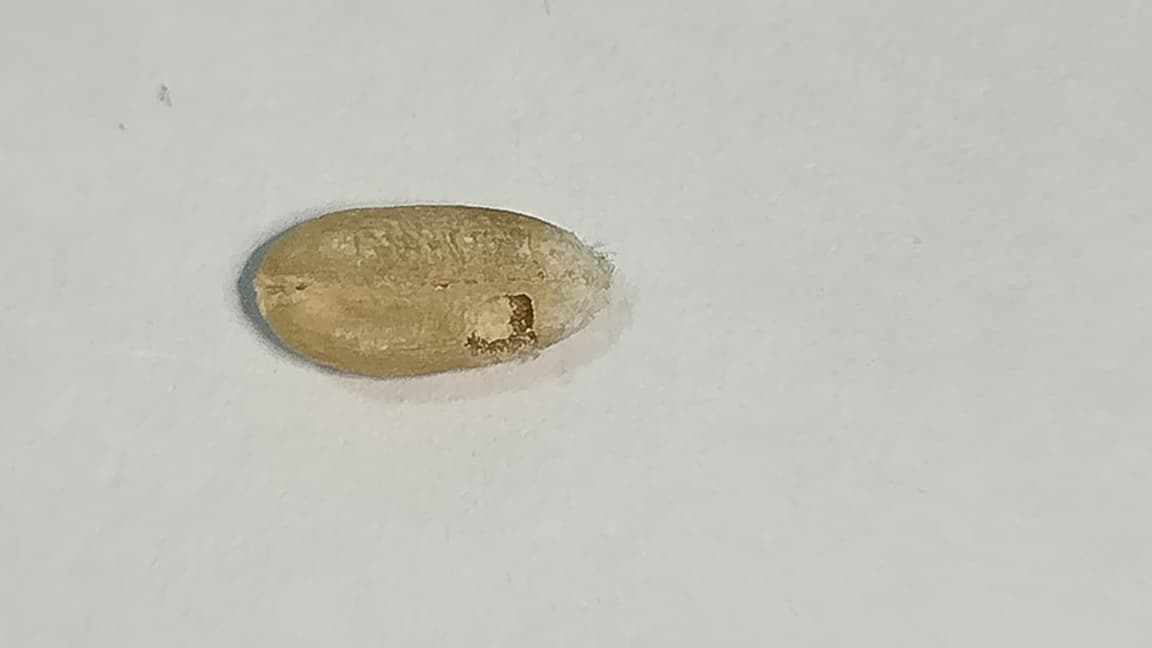damage: (250, 204, 610, 374)
insectdamage: (426, 260, 553, 356)
